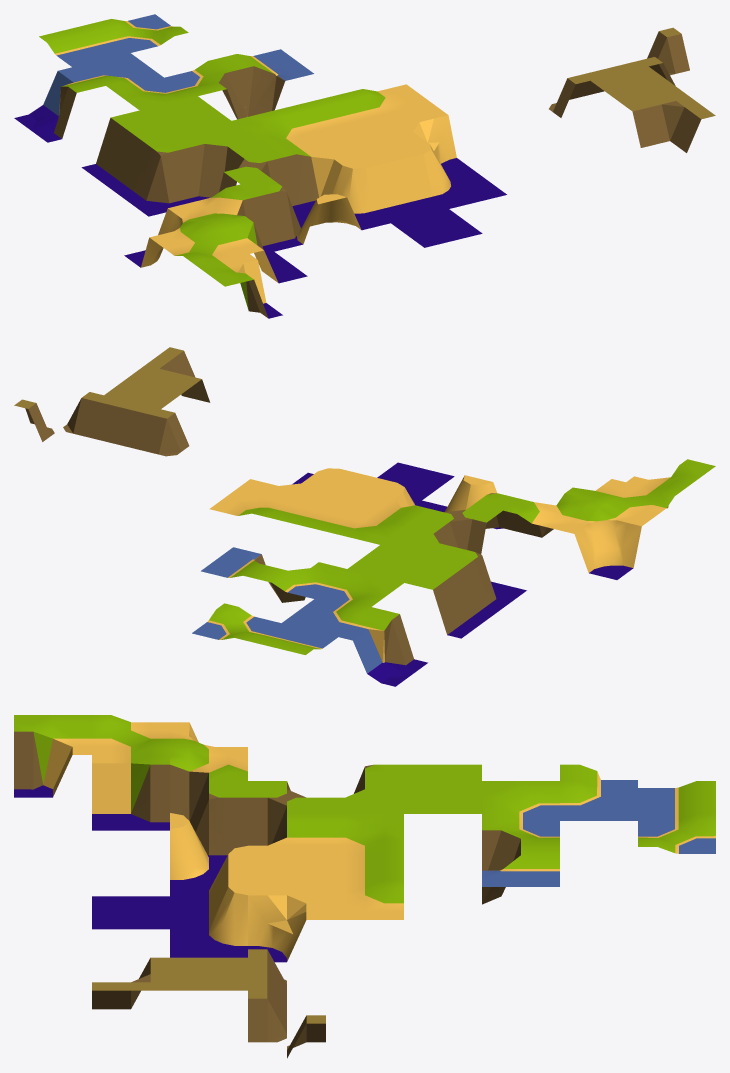
File: marching-squares1.fbx
3 renders of one model, top to bottom at view 1: azimuth 30°, elevation 25°; view 2: azimuth 150°, elevation 25°; view 3: azimuth 270°, elevation 25°, orthographic. The views are drawn at different scales.
Visible parts, largest first — view 1: Plane.001, Plane.019, Plane.027, Plane.002, Plane.004, Plane.033, Plane.011, Plane.025, Plane.024, Plane.007, Plane.022, Plane.021 (+21 smaller); view 2: Plane.028, Plane.007, Plane.002, Plane.031, Plane.026, Plane.001, Plane.009, Plane.023, Plane.005, Plane.006, Plane.010, Plane.015 (+20 smaller); view 3: Plane.012, Plane.013, Plane.022, Plane.025, Plane.021, Plane.023, Plane.026, Plane.009, Plane.024, Plane.005, Plane.014, Plane.003 (+20 smaller).
Part boxes in pixels (bbox=[...]): Plane.001: bbox=[115, 135, 202, 216]; Plane.019: bbox=[357, 148, 448, 222]; Plane.027: bbox=[265, 137, 356, 212]; Plane.002: bbox=[81, 110, 172, 191]; Plane.004: bbox=[173, 121, 264, 199]; Plane.033: bbox=[624, 91, 715, 152]; Plane.011: bbox=[223, 49, 313, 116]; Plane.025: bbox=[241, 177, 331, 251]; Plane.024: bbox=[299, 162, 390, 230]; Plane.007: bbox=[14, 67, 105, 142]; Plane.022: bbox=[382, 109, 473, 176]; Plane.021: bbox=[416, 144, 506, 208]; Plane.028: bbox=[560, 500, 649, 579]; Plane.007: bbox=[339, 607, 427, 686]; Plane.002: bbox=[405, 559, 493, 638]; Plane.031: bbox=[87, 395, 160, 450]; Plane.026: bbox=[413, 503, 502, 554]; Plane.001: bbox=[437, 547, 526, 614]; Plane.009: bbox=[257, 562, 346, 602]; Plane.023: bbox=[503, 493, 592, 537]; Plane.005: bbox=[315, 569, 403, 606]; Plane.006: bbox=[282, 599, 370, 636]; Plane.010: bbox=[192, 603, 280, 641]; Plane.015: bbox=[593, 482, 682, 520]; Plane.012: bbox=[92, 748, 169, 830]; Plane.013: bbox=[14, 715, 91, 797]; Plane.022: bbox=[248, 887, 325, 962]; Plane.025: bbox=[170, 781, 247, 863]; Plane.021: bbox=[170, 887, 247, 957]; Plane.023: bbox=[170, 748, 247, 824]; Plane.026: bbox=[248, 781, 325, 845]; Plane.009: bbox=[482, 814, 559, 870]; Plane.024: bbox=[170, 821, 247, 896]; Plane.005: bbox=[482, 781, 559, 820]; Plane.014: bbox=[326, 814, 403, 853]; Plane.003: bbox=[326, 880, 403, 919].
Size of the model in its own units: 10 by 1 by 9.
